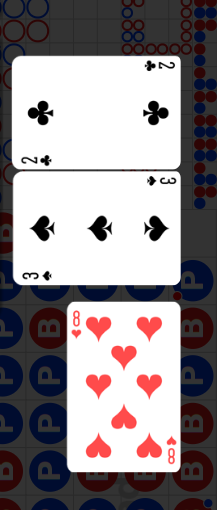2C: (141, 59, 176, 73)
3S: (21, 269, 54, 282)
8H: (164, 434, 177, 465)
